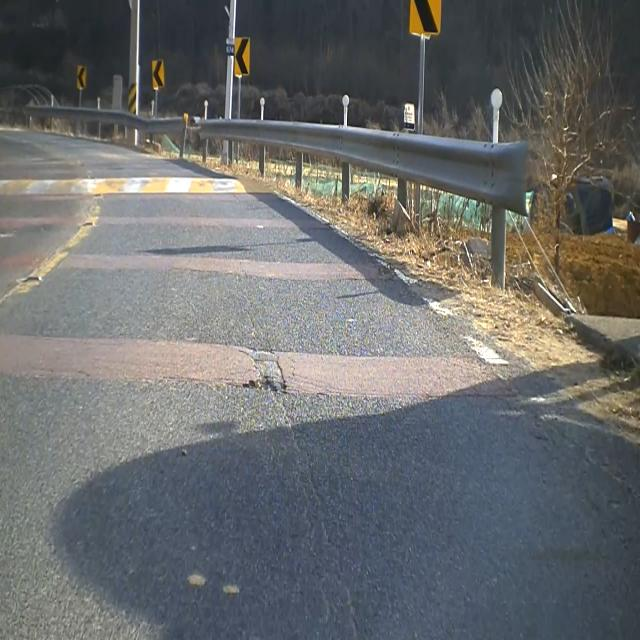Pothole: (237, 335, 297, 408)
